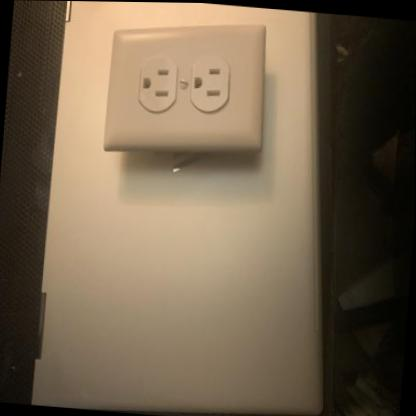OUTLET: (103, 16, 266, 156)
